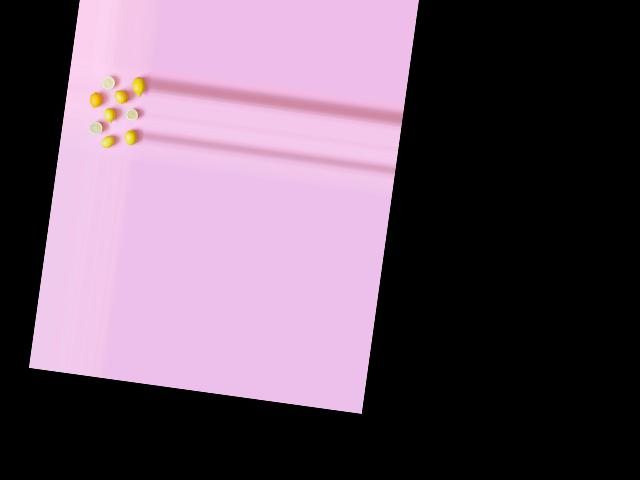lemon: (125, 126, 140, 147)
